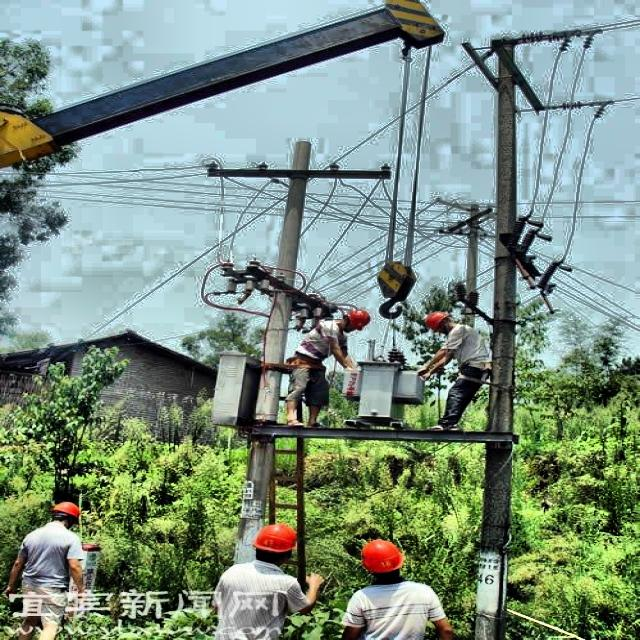helmet: (357, 538, 407, 582), (252, 521, 301, 563), (46, 495, 86, 535), (333, 306, 374, 340), (420, 308, 461, 339)
